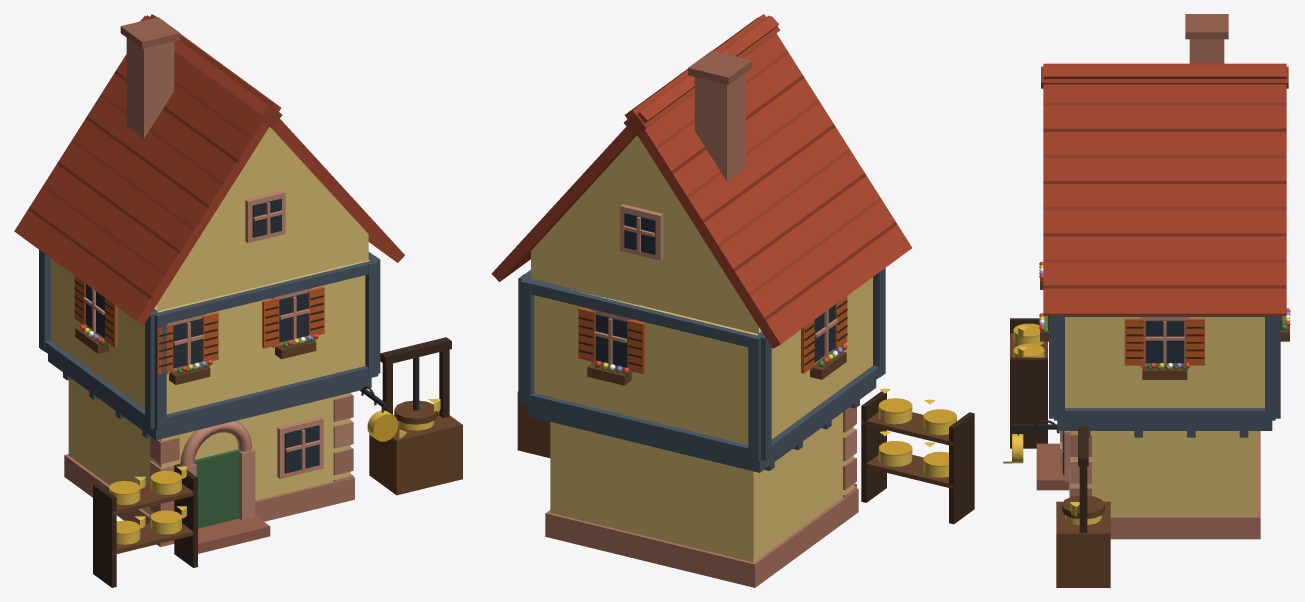
Rendered from kaeserei.glb.
3 renders of one model, left to right at view 1: azimuth 30°, elevation 25°; view 2: azimuth 150°, elevation 25°; view 3: azimuth 270°, elevation 25°, orthographic. The views are drawn at different scales.
Bounding box in the file's own units: 3.95 × 4.57 × 2.64.
